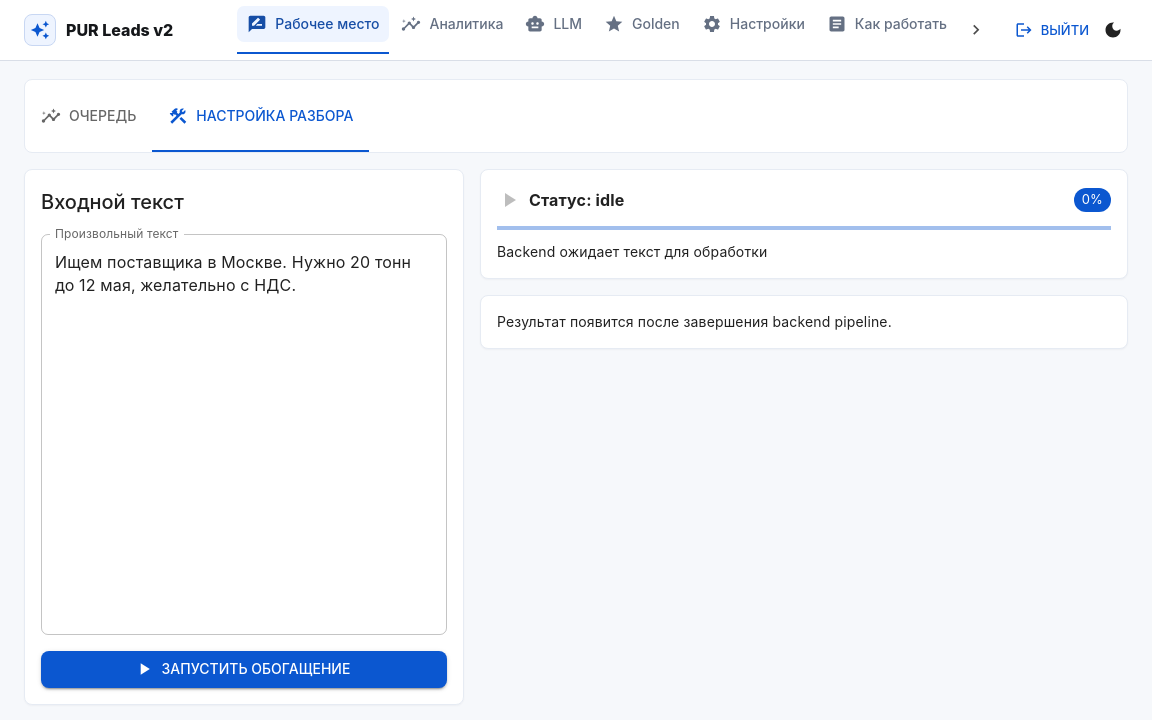
renders annotation ranges correctly after emoji
Expected: the element named "Основная навигация" is shown, [237,6,956,42]
Expected: the text box labelled "Произвольный текст" is shown, [55,250,433,618]
Click the button "Запустить обогащение".
click(244, 669)  # box [41,651,447,688]
(page scrolled)
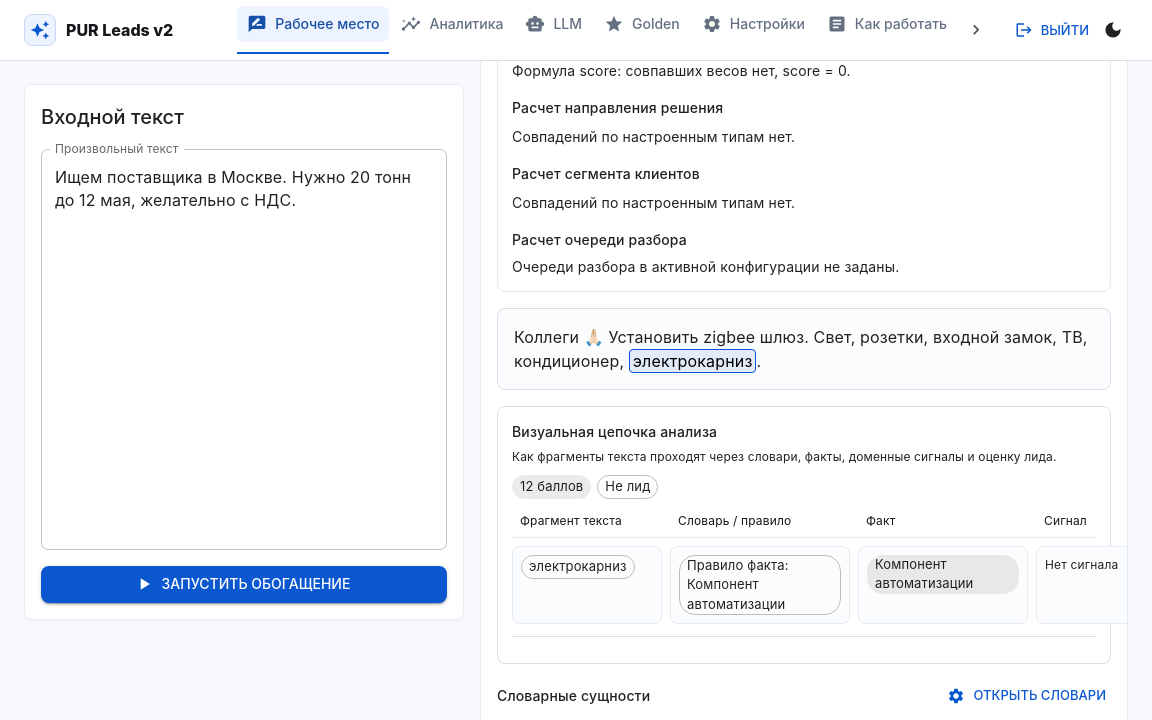
Result: the 1st text "электрокарниз" is shown at [629,349,756,373]
